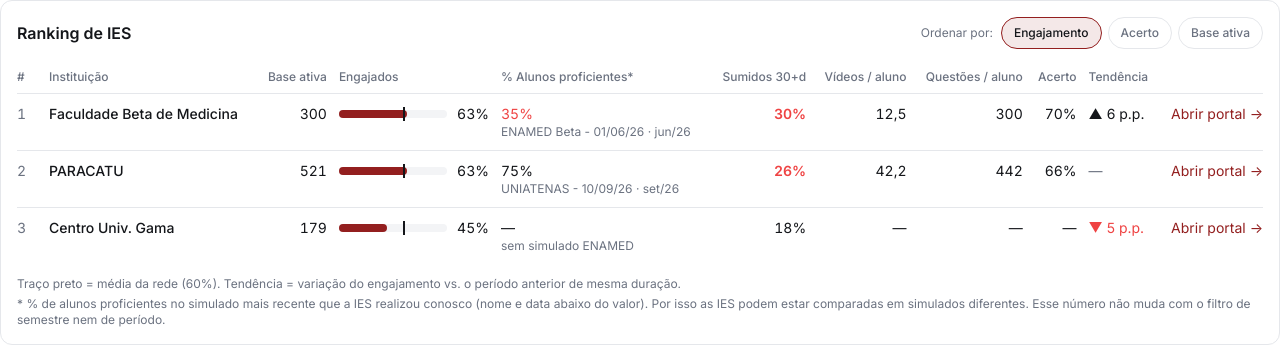
RankingIes › Acerto: decrescente, e IES sem acerto vai para o fim
Click the button "Acerto" at point(1140, 33), box [1108,17,1172,49]
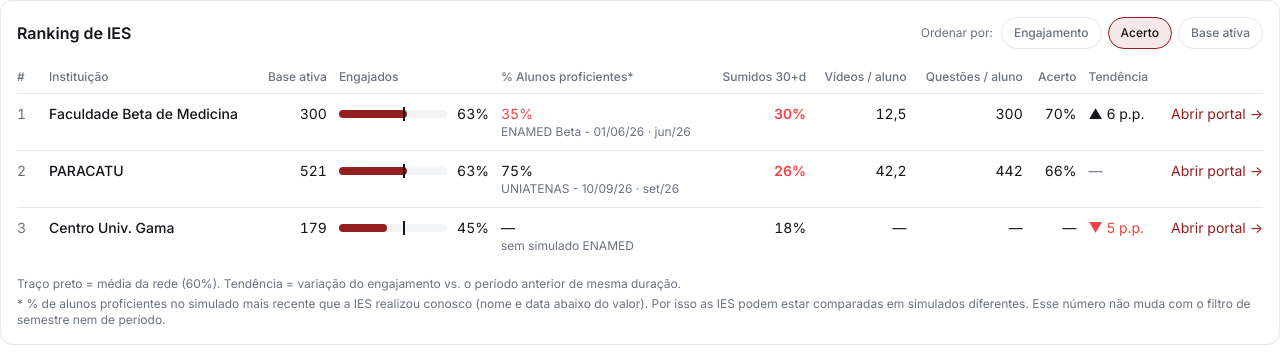
Expected: the button "Acerto" is pressed, [1108,17,1172,49]
Expected: the button "Engajamento" is not pressed, [1001,17,1102,49]
